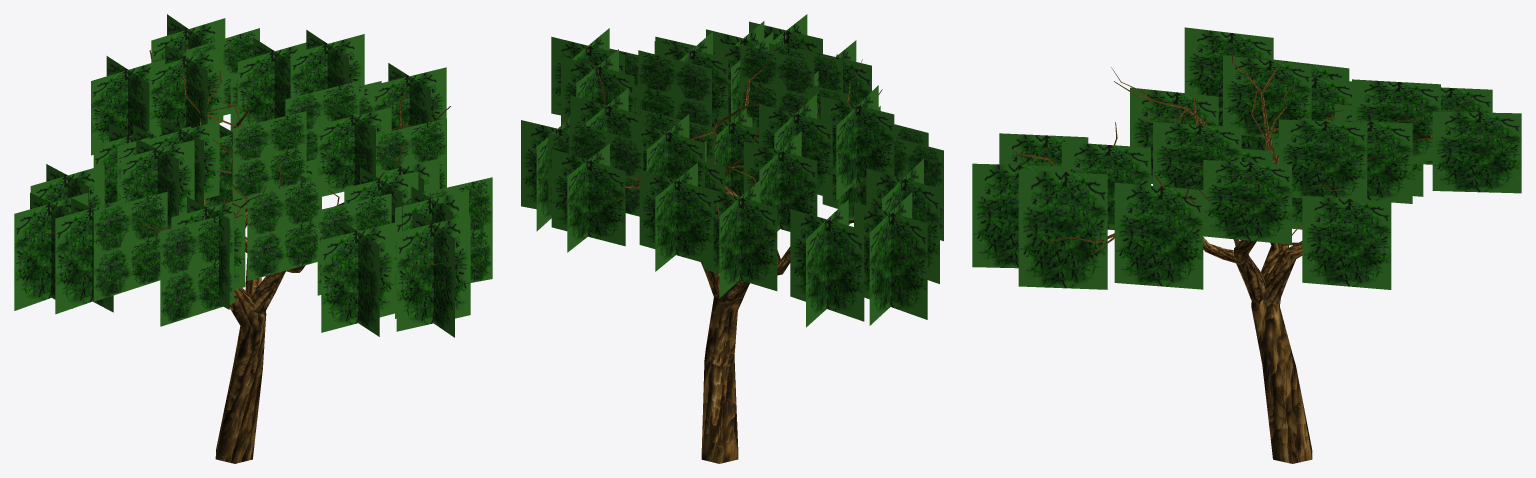
The model's file is LVL_ROAST_MUTTON_INSTANCE_OAK_TREE.fbx.
3 views of the same model, side by side, from view 1: azimuth 30°, elevation 25°; view 2: azimuth 150°, elevation 25°; view 3: azimuth 270°, elevation 25° (orthographic). The views are drawn at different scales.
Parts seen in each view (by area): view 1: LVL_ROAST_MUTTON_INSTANCE_OAK_TREE; view 2: LVL_ROAST_MUTTON_INSTANCE_OAK_TREE; view 3: LVL_ROAST_MUTTON_INSTANCE_OAK_TREE.
Boxes of the visible parts, box(x1,y1,x2,y2) form: LVL_ROAST_MUTTON_INSTANCE_OAK_TREE: box(14, 14, 492, 463); LVL_ROAST_MUTTON_INSTANCE_OAK_TREE: box(521, 14, 943, 463); LVL_ROAST_MUTTON_INSTANCE_OAK_TREE: box(972, 27, 1521, 463).
Size of the model in its own units: 124204 by 110983 by 140409.
Materials: 2 (2 with a texture image).
